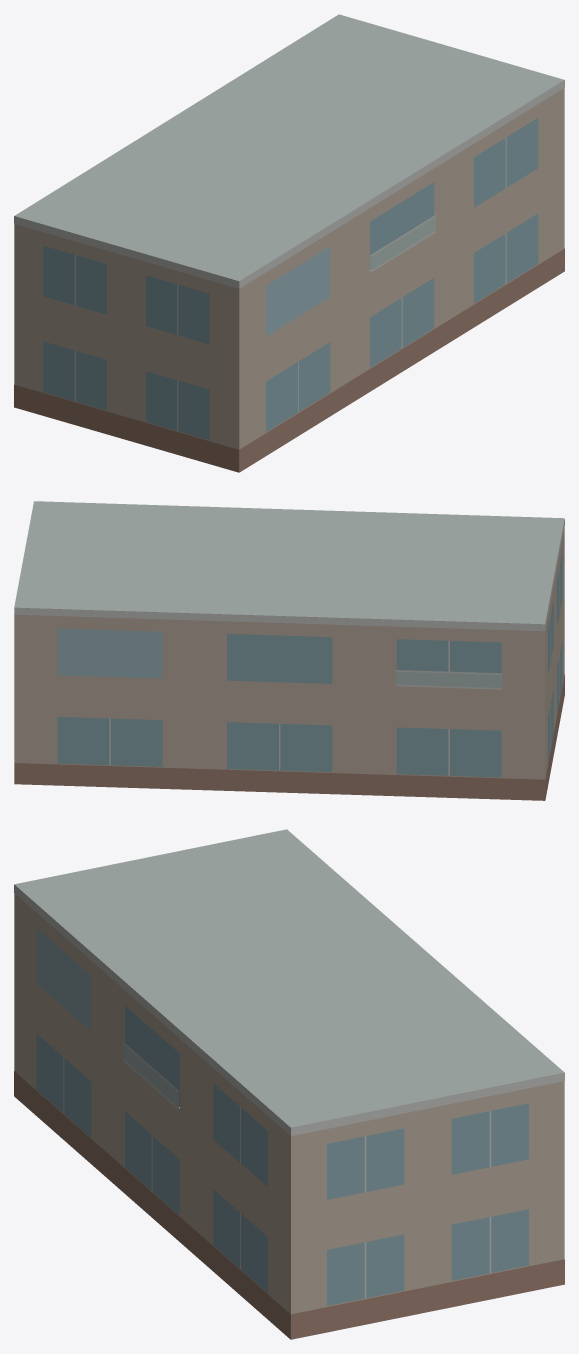
The model's file is survey-upis-32705590.glb.
3 renders of one model, top to bottom at view 1: azimuth 30°, elevation 25°; view 2: azimuth 150°, elevation 25°; view 3: azimuth 270°, elevation 25°, orthographic. The views are drawn at different scales.
Parts seen in each view (by area): view 1: survey-upis-32705590.tmp; view 2: survey-upis-32705590.tmp; view 3: survey-upis-32705590.tmp.
Boxes of the visible parts, x1,y1,x2,y2 form: survey-upis-32705590.tmp: (14, 14, 564, 472); survey-upis-32705590.tmp: (14, 501, 564, 800); survey-upis-32705590.tmp: (14, 829, 564, 1339).
Size of the model in its own units: 18.44 by 6.1 by 14.37.
